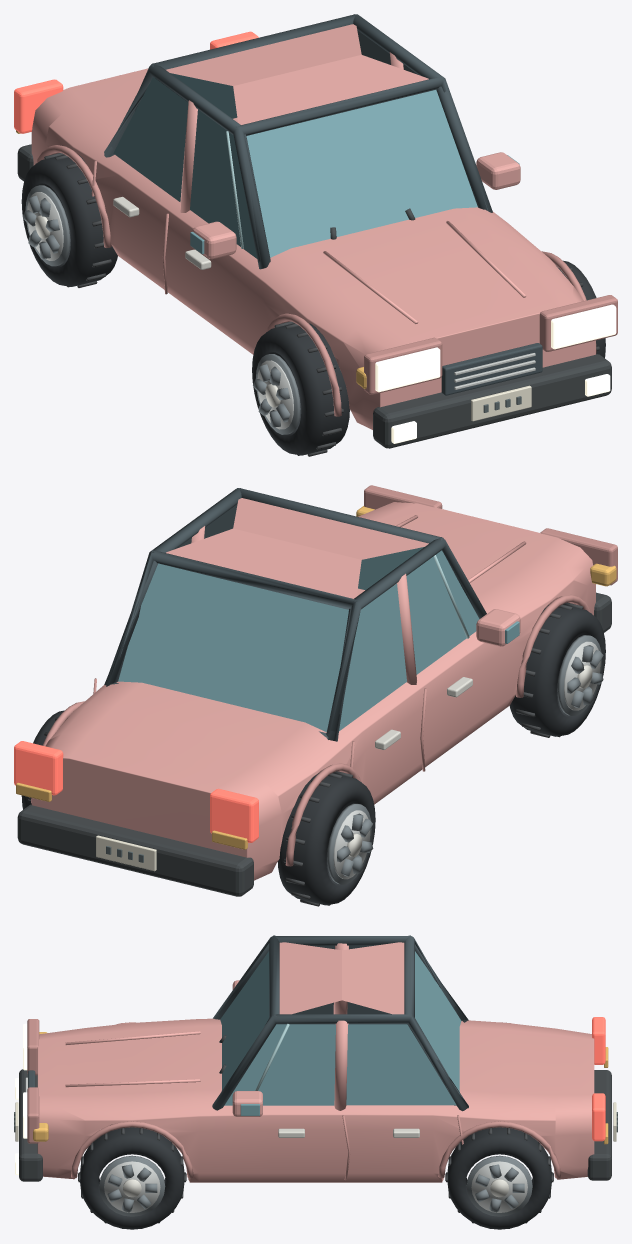
File: car_02.fbx
3 renders of one model, top to bottom at view 1: azimuth 30°, elevation 25°; view 2: azimuth 150°, elevation 25°; view 3: azimuth 270°, elevation 25°, orthographic. The views are drawn at different scales.
Parts seen in each view (by area): view 1: Body_SculptedShell, FrontWindscreen, Roof_CrownedPanel, FrontBumper, Tyre_FL, Tyre_RL, SideWindow_L_1, SideWindow_L_0, FrontWindscreenBorder, WindowOutline_R, WindowOutline_L, FrontGrille (+22 smaller); view 2: Body_SculptedShell, RearWindow, Roof_CrownedPanel, RearBumper, Tyre_RL, Tyre_FL, SideWindow_L_1, SideWindow_L_0, RearWindowBorder, WindowOutline_L, WindowOutline_R, TailLamp_R (+19 smaller); view 3: Body_SculptedShell, Roof_CrownedPanel, SideWindow_R_1, SideWindow_R_0, Tyre_FR, Tyre_RR, FrontWindscreen, RearWindow, WindowOutline_R, WindowOutline_L, RearBumper, RearWindowBorder (+19 smaller).
Part boxes in pixels (x1,y1,x2,y2): Body_SculptedShell: (31,68,595,429); FrontWindscreen: (246,90,477,257); Roof_CrownedPanel: (166,24,428,124); FrontBumper: (373,354,611,448); Tyre_FL: (252,323,349,455); Tyre_RL: (21,154,117,286); SideWindow_L_1: (113,77,188,201); SideWindow_L_0: (190,109,257,258); FrontWindscreenBorder: (236,76,488,269); WindowOutline_R: (353,14,492,212); WindowOutline_L: (107,63,269,262); FrontGrille: (441,343,542,395); Body_SculptedShell: (31,502,595,880); RearWindow: (118,563,348,731); Roof_CrownedPanel: (166,498,428,598); RearBumper: (17,804,253,896); Tyre_RL: (277,773,375,905); Tyre_FL: (509,604,605,736); SideWindow_L_1: (339,583,406,731); SideWindow_L_0: (406,550,479,674); RearWindowBorder: (106,550,358,741); WindowOutline_L: (326,537,486,741); WindowOutline_R: (104,488,241,685); TailLamp_R: (14,741,63,795); Body_SculptedShell: (37,1018,594,1182); Roof_CrownedPanel: (279,942,404,1014); SideWindow_R_1: (346,1024,456,1105); SideWindow_R_0: (224,1024,335,1105); Tyre_FR: (80,1127,184,1229); Tyre_RR: (447,1127,551,1229); FrontWindscreen: (220,951,269,1090); RearWindow: (415,951,461,1092); WindowOutline_R: (212,1014,468,1111); WindowOutline_L: (219,936,465,1019); RearBumper: (587,1070,611,1180); RearWindowBorder: (404,935,468,1108).
Size of the model in its own units: 245 by 183 by 500.
